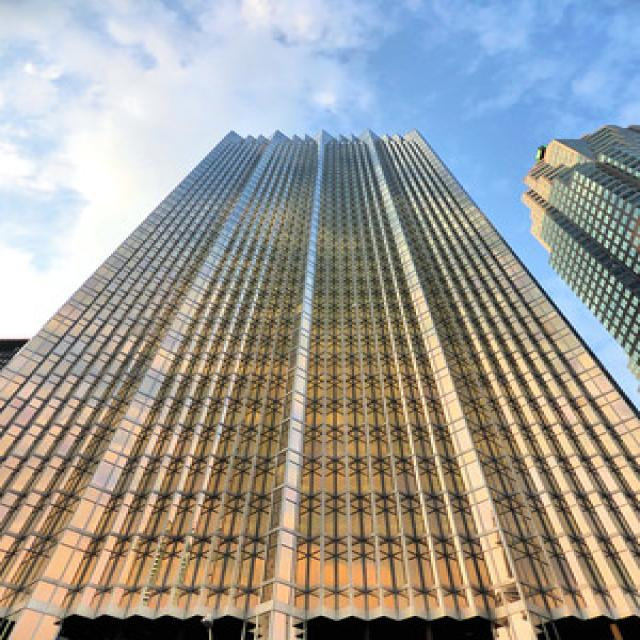building: (27, 125, 639, 632)
